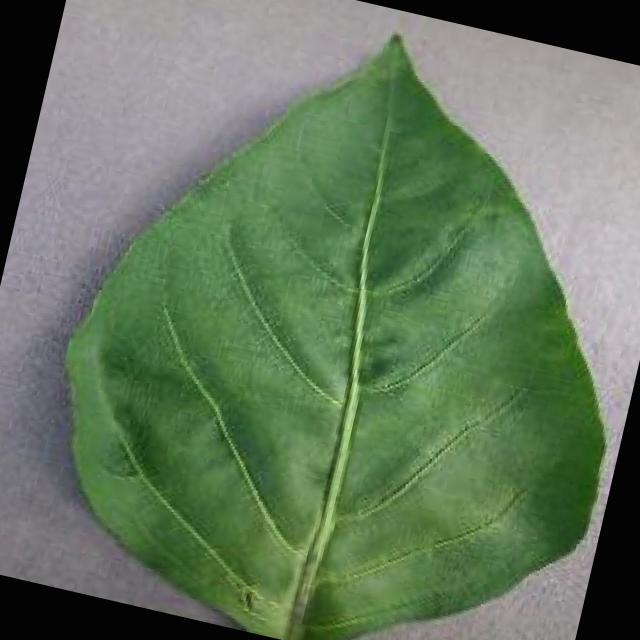Leaf: (63, 131, 604, 640)
